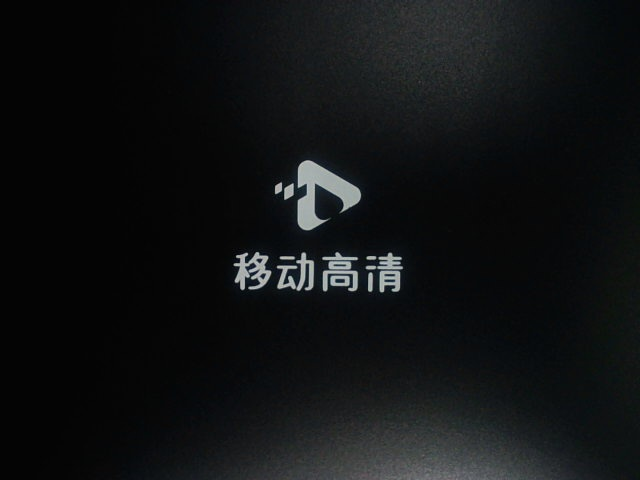AO_MobileHD: (210, 145, 422, 309)
